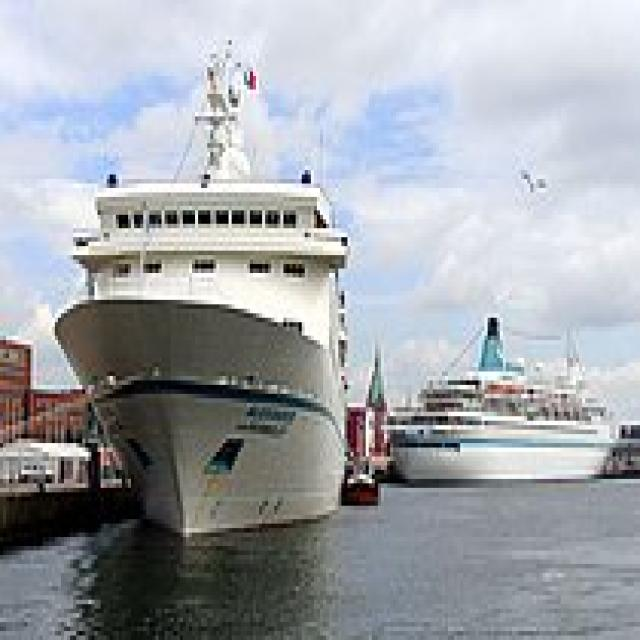Cruise: (49, 27, 350, 537), (384, 304, 616, 483)
